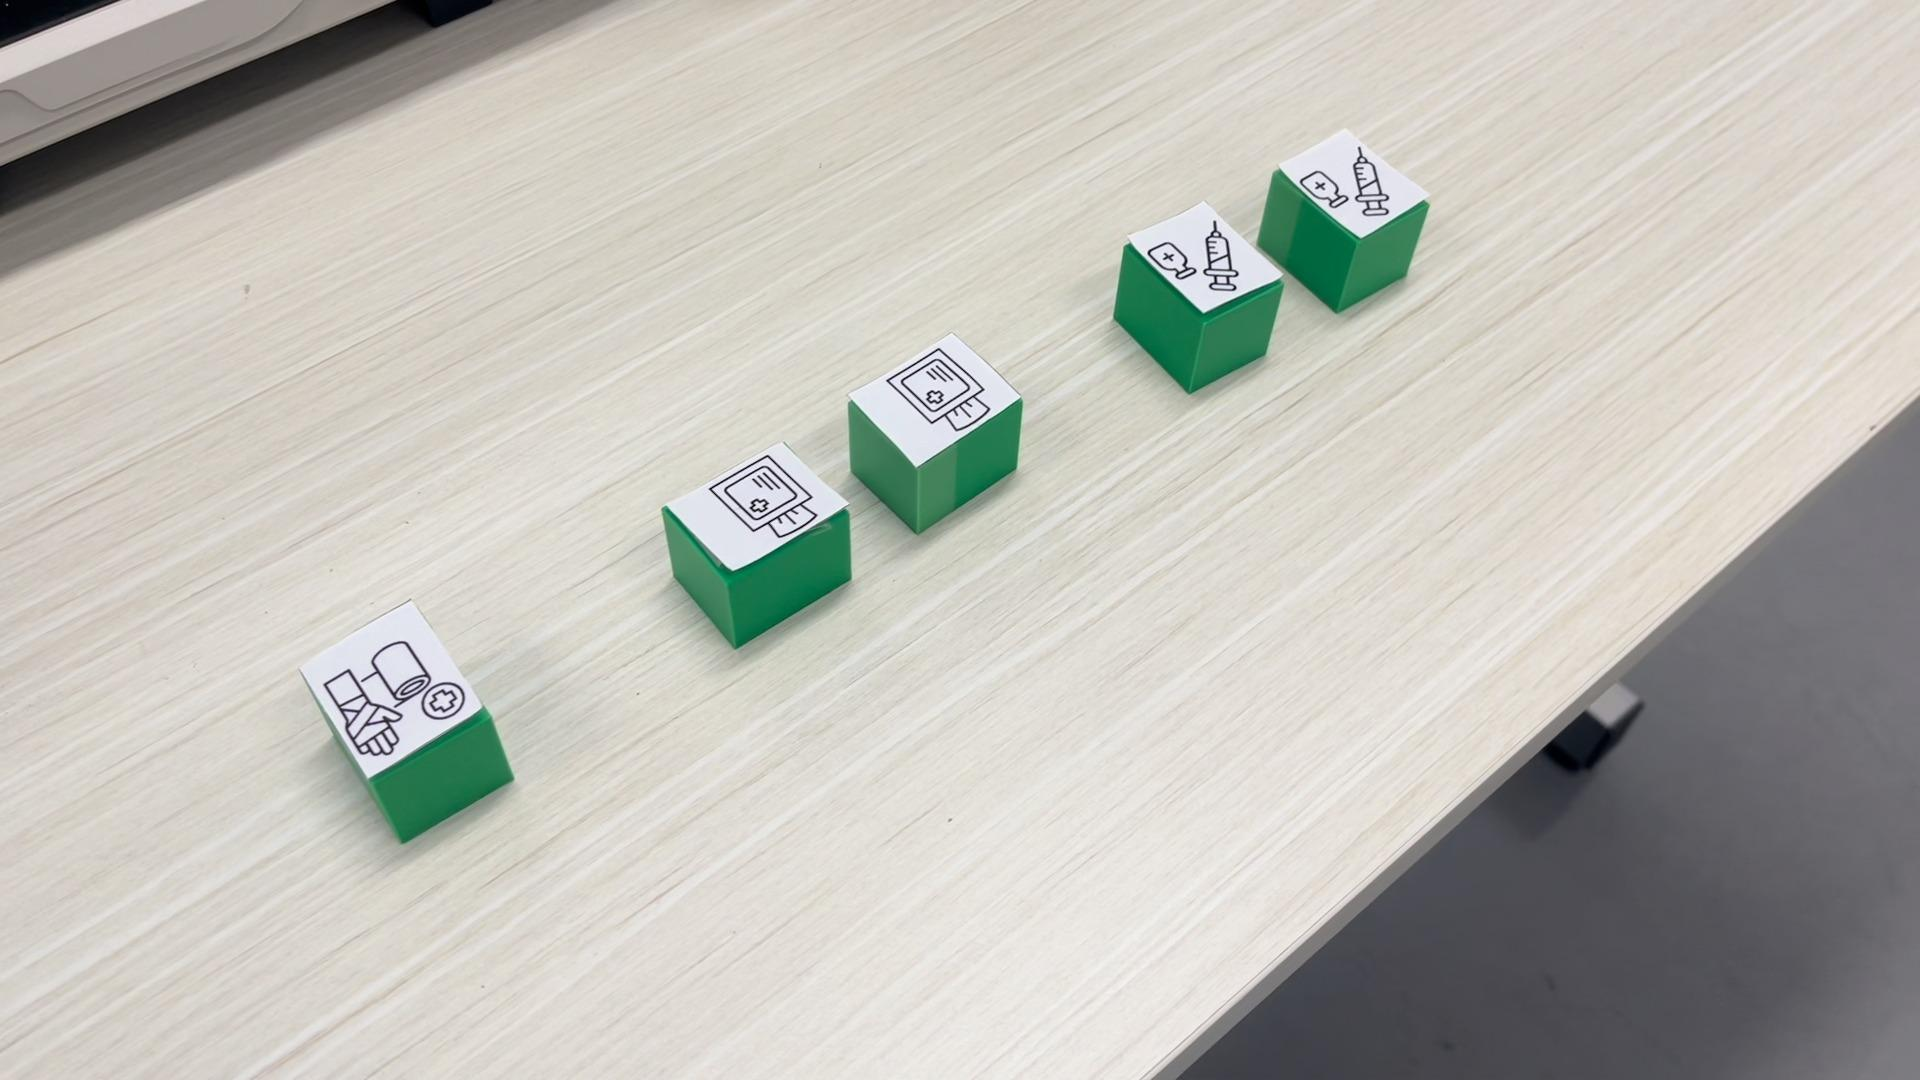Bandages: (294, 597, 516, 843)
Gauze: (659, 439, 851, 647), (847, 332, 1025, 534)
antiseptic cream: (1110, 200, 1280, 393), (1258, 128, 1433, 313)
